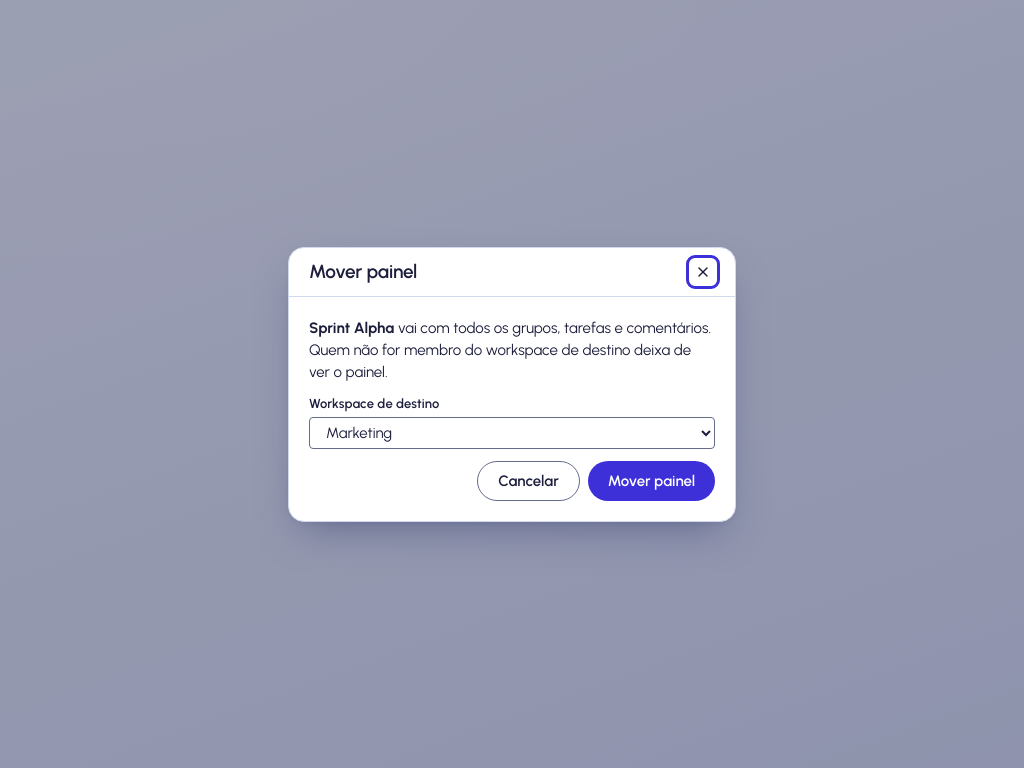
it: MoverBoardDialog › erro do banco aparece no diálogo e ele não fecha
The image size is (1024, 768).
Click the button "Mover painel".
click(651, 480)  # box [588,460,715,500]
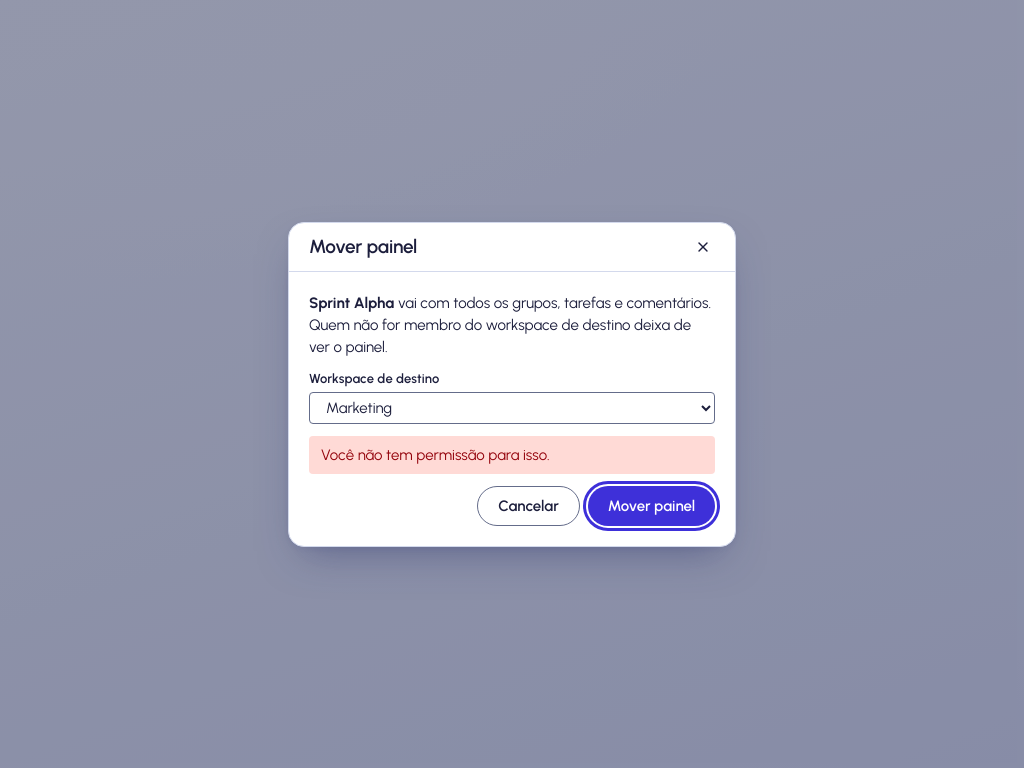
Expected: the message reads "Você não tem permissão para isso.", [321,446,550,464]
